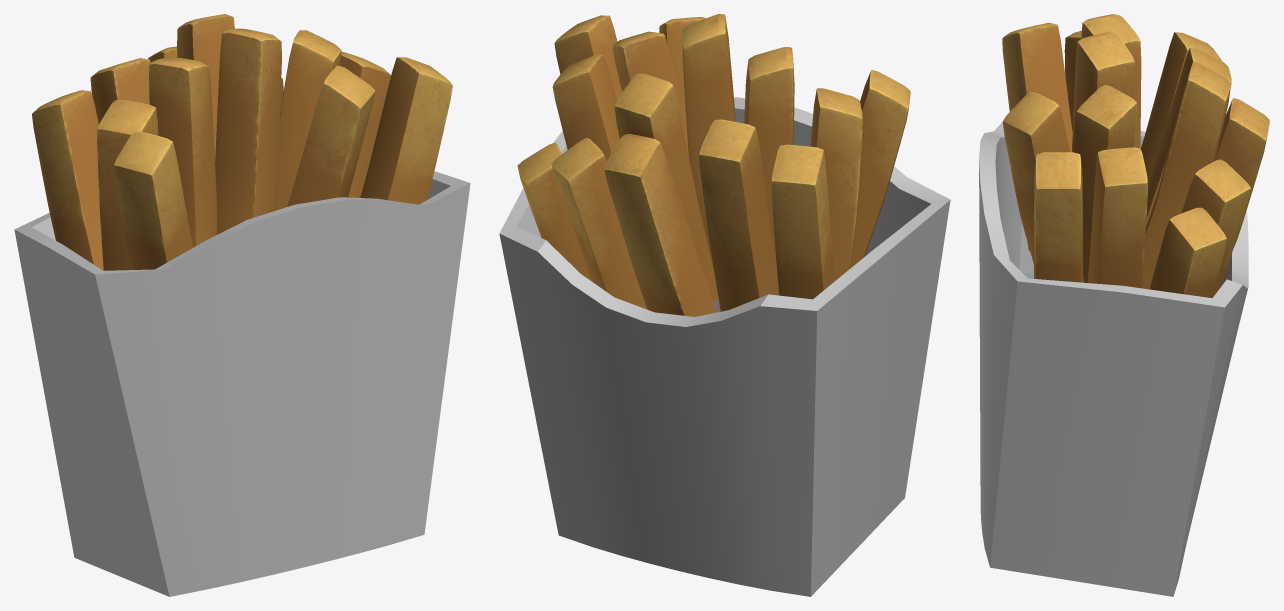
File: friesbox (1).fbx
3 views of the same model, side by side, from view 1: azimuth 30°, elevation 25°; view 2: azimuth 150°, elevation 25°; view 3: azimuth 270°, elevation 25° (orthographic). The views are drawn at different scales.
Parts seen in each view (by area): view 1: Cube.019, Cube.020; view 2: Cube.019, Cube.020; view 3: Cube.019, Cube.020.
Boxes of the visible parts, x1,y1,x2,y2 form: Cube.019: (14,171,470,596); Cube.020: (32,14,452,270); Cube.019: (499,97,950,596); Cube.020: (517,14,910,316); Cube.019: (979,122,1248,596); Cube.020: (1002,14,1269,298).
Size of the model in its own units: 132 by 176 by 91.96.
